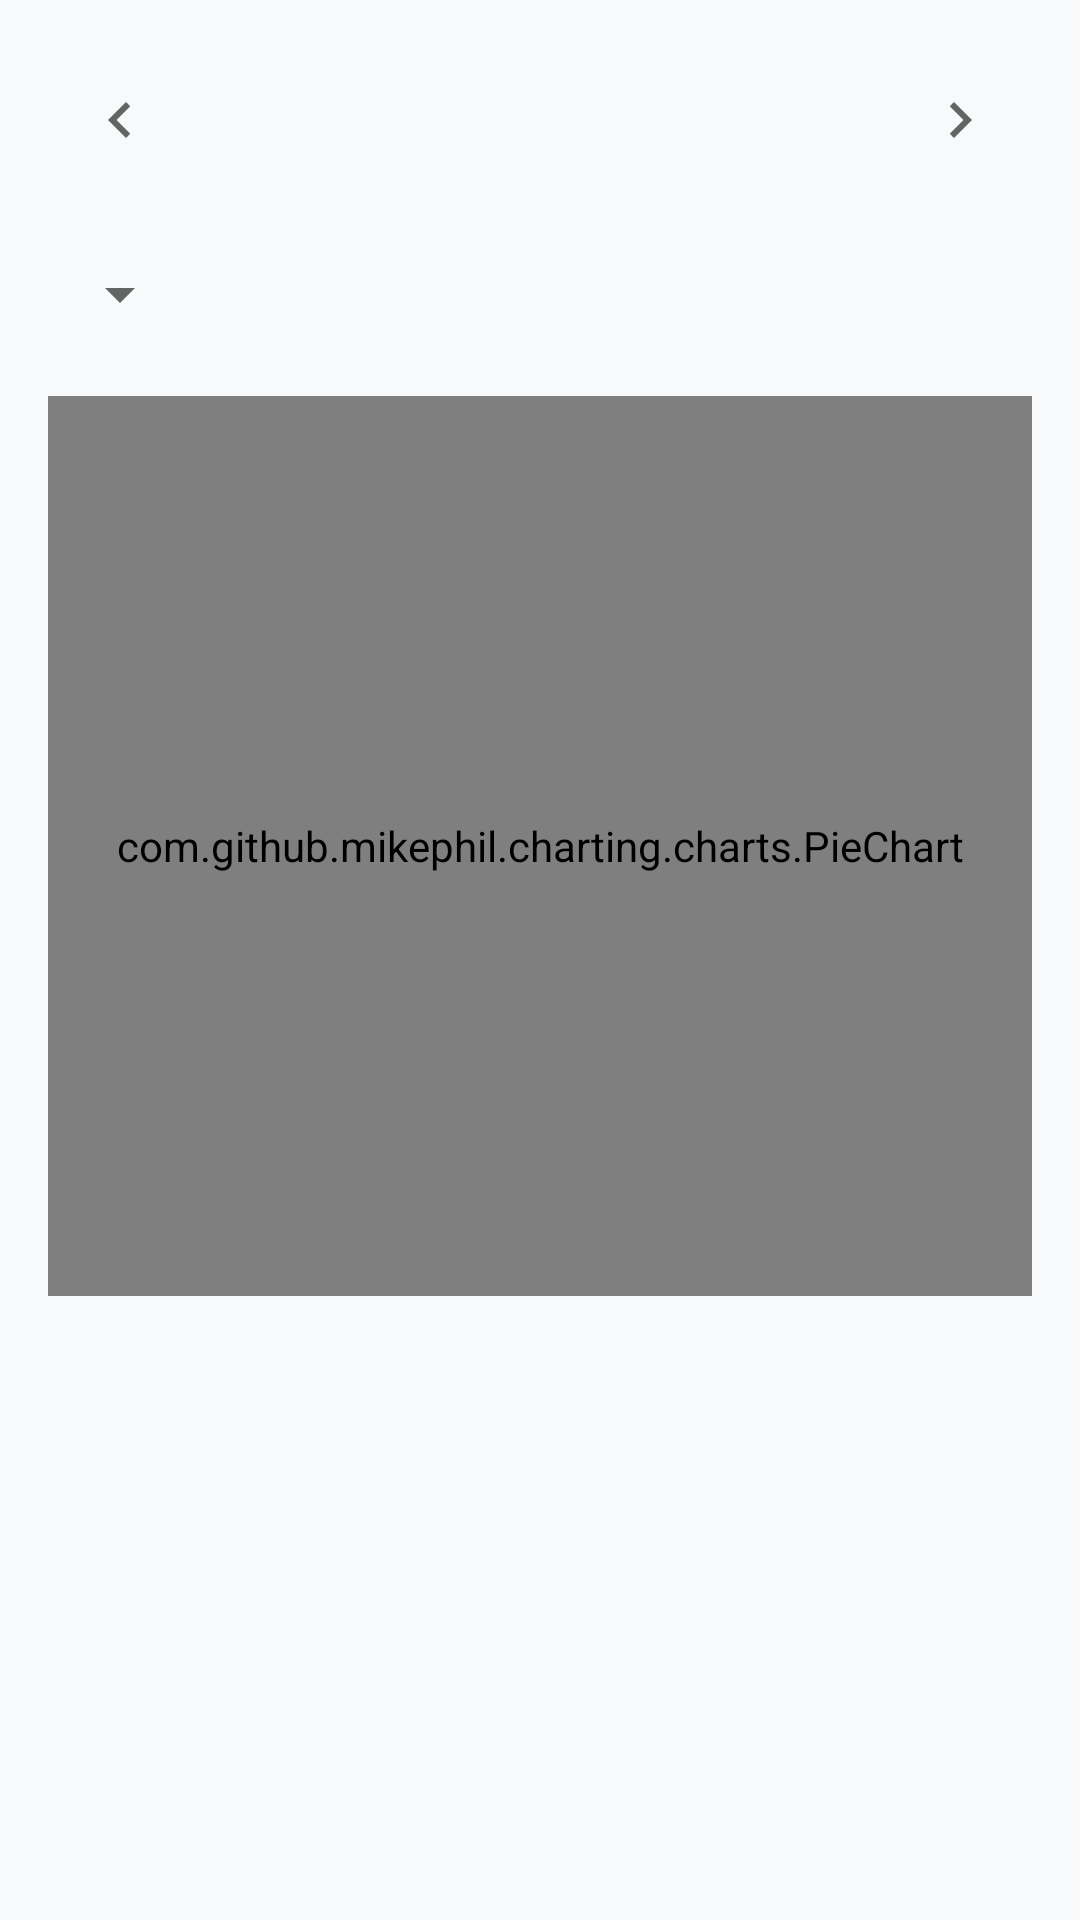

Icons on this 1080x1920 Android screen, each with its box as (x1, y1, x2, y2):
Berikutnya: (950, 102, 972, 138)
Sebelumnya: (108, 102, 130, 138)
